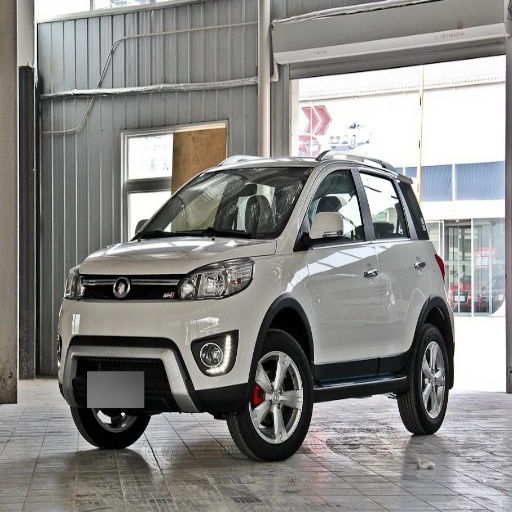front_bumper: (56, 272, 268, 409)
front_glass: (138, 167, 311, 238)
front_left_door: (298, 165, 383, 380)
